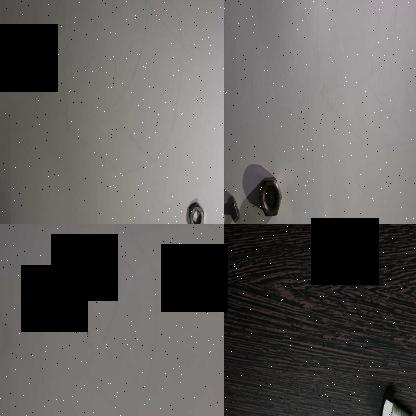Bolts: (375, 387, 416, 416)
NUTS: (248, 153, 284, 224), (224, 180, 241, 224), (182, 196, 208, 224)
